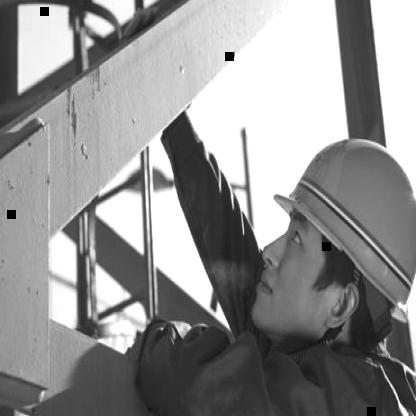helmet: (269, 124, 416, 319)
